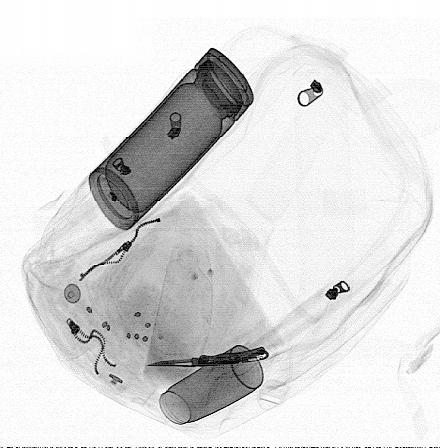Knife: (146, 346, 270, 368)
